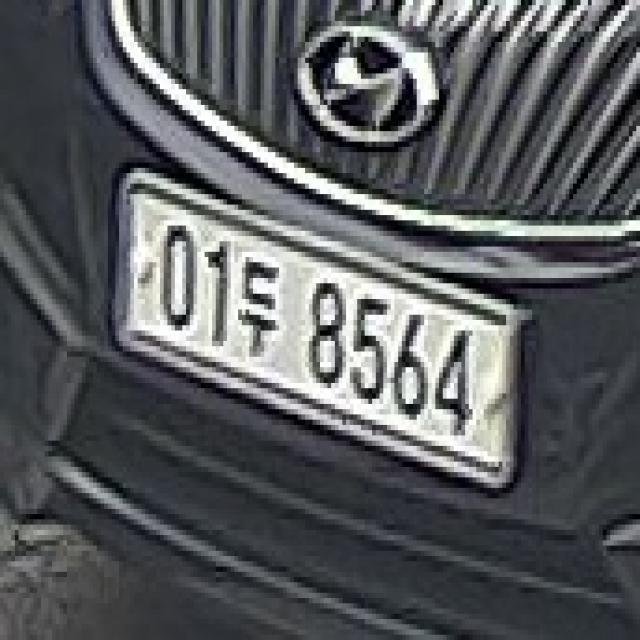0: (158, 216, 199, 336)
1: (202, 235, 234, 348)
4: (434, 321, 478, 443)
5: (350, 291, 390, 405)
6: (393, 304, 431, 428)
8: (306, 270, 346, 396)
du: (236, 255, 284, 362)
license_plate: (114, 156, 528, 507)
